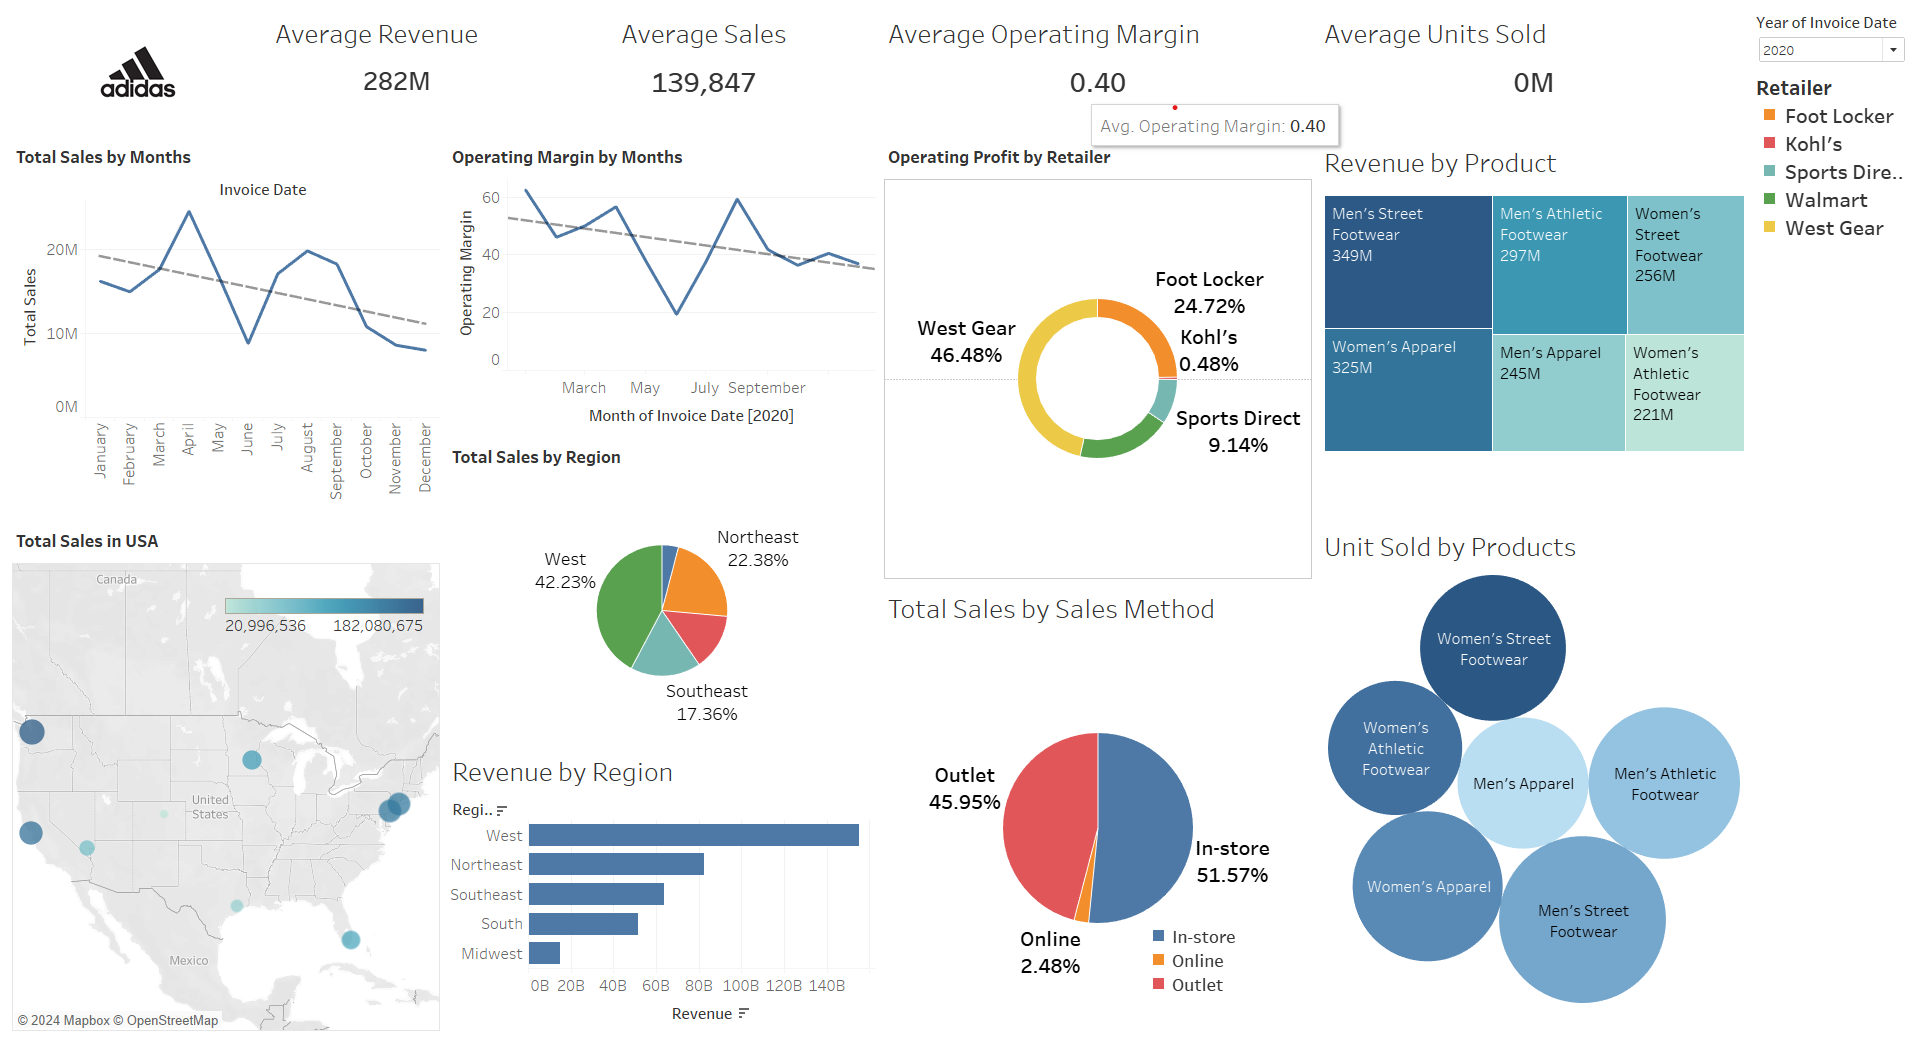

This screenshot's page, from the dashboard's own definition file:
{"tool":"tableau","page":{"name":"Adidas Sales Analysis Dashboard","canvas":[1000,1000],"units":"permille","ordinal":0},"visuals":[{"type":"image","param":"C:/Users/herra/Downloads/Github/Adidas sales performance analysis/ezgif-5-6c261e","box":[4.8,9.4,133,123.2]},{"type":"worksheet","title":"Average Revenue","mark":"Automatic","box":[137.8,9.4,133.3,123.2]},{"type":"worksheet","title":"Average Sales","mark":"Automatic","box":[271.1,9.4,180.5,123.2]},{"type":"worksheet","title":"Average Operating Margin","mark":"Automatic","box":[451.6,9.4,223.5,123.2]},{"type":"worksheet","title":"Average Units Sold","mark":"Automatic","box":[675,9.4,223.6,123.2]},{"type":"filter","title":"Total Sales by Months","param":"[federated.1qlov8h0hqz64s18kcpc71u3div3].[yr:Invoice Date:ok]","box":[898.6,9.4,96.6,71.7]},{"type":"legend","title":"Operating Profit by Retailer","param":"[federated.1qlov8h0hqz64s18kcpc71u3div3].[none:Retailer:nk]","box":[898.6,81.1,96.6,206.8]},{"type":"worksheet","title":"Total Sales by Months","mark":"Automatic","rows":["Total Sales"],"cols":["Invoice Date"],"box":[4.8,132.6,223.3,366.6]},{"type":"worksheet","title":"Operating Margin by Months","mark":"Automatic","rows":["Operating Margin"],"cols":["Invoice Date"],"box":[228.1,132.6,223.4,286.9]},{"type":"worksheet","title":"Operating Profit by Retailer","mark":"Pie","rows":["Calculation_1975391437342302212","Calculation_1975391437342302212"],"box":[451.6,132.6,223.5,426.6]},{"type":"worksheet","title":"Revenue by Product","mark":"Automatic","box":[675,132.6,223.6,366.6]},{"type":"worksheet","title":"Total Sales by Region","mark":"Pie","box":[228.1,419.5,223.4,294.9]},{"type":"worksheet","title":"Sum of Total Sales by Geography","mark":"Automatic","box":[4.8,499.3,223.3,491.3]},{"type":"worksheet","title":"Unit Sold by Products","mark":"Circle","box":[675,499.3,223.6,491.3]},{"type":"worksheet","title":"Total Sales by Sales Method","mark":"Pie","box":[451.6,559.2,223.5,431.4]},{"type":"legend","title":"Sum of Total Sales by Geography","param":"[federated.1qlov8h0hqz64s18kcpc71u3div3].[cum:sum:Total Sales:qk]","box":[115.3,569.9,108,50.5]},{"type":"worksheet","title":"Revenue by Region","mark":"Automatic","rows":["Region"],"cols":["Calculation_1975391437152288768"],"box":[228.1,714.4,223.4,276.2]},{"type":"legend","title":"Total Sales by Sales Method","param":"[federated.1qlov8h0hqz64s18kcpc71u3div3].[none:Sales Method:nk]","box":[597.5,886,82.7,91.7]}]}

Visuals, with their boxes on the dashboard's canvas, which has no fixed pixel size, in thousandths of its width and height (x1, y1, x2, y2). These are canvas units, not pixel positions in the 1920x1041 screenshot, which may show the page scaled, cropped or inside an application window:
image: x1=5, y1=9, x2=138, y2=133
"Average Revenue" worksheet: x1=138, y1=9, x2=271, y2=133
"Average Sales" worksheet: x1=271, y1=9, x2=452, y2=133
"Average Operating Margin" worksheet: x1=452, y1=9, x2=675, y2=133
"Average Units Sold" worksheet: x1=675, y1=9, x2=899, y2=133
"Total Sales by Months" filter: x1=899, y1=9, x2=995, y2=81
"Operating Profit by Retailer" legend: x1=899, y1=81, x2=995, y2=288
"Total Sales by Months" worksheet: x1=5, y1=133, x2=228, y2=499
"Operating Margin by Months" worksheet: x1=228, y1=133, x2=452, y2=420
"Operating Profit by Retailer" worksheet (Pie marks): x1=452, y1=133, x2=675, y2=559
"Revenue by Product" worksheet: x1=675, y1=133, x2=899, y2=499
"Total Sales by Region" worksheet (Pie marks): x1=228, y1=420, x2=452, y2=714
"Sum of Total Sales by Geography" worksheet: x1=5, y1=499, x2=228, y2=991
"Unit Sold by Products" worksheet (Circle marks): x1=675, y1=499, x2=899, y2=991
"Total Sales by Sales Method" worksheet (Pie marks): x1=452, y1=559, x2=675, y2=991
"Sum of Total Sales by Geography" legend: x1=115, y1=570, x2=223, y2=620
"Revenue by Region" worksheet: x1=228, y1=714, x2=452, y2=991
"Total Sales by Sales Method" legend: x1=598, y1=886, x2=680, y2=978
